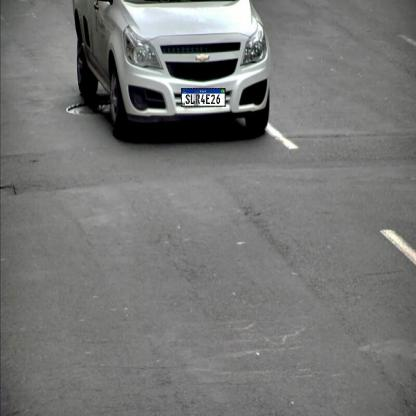PlacaM: (181, 88, 226, 107)
